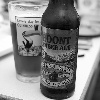beer: (41, 1, 76, 97)
